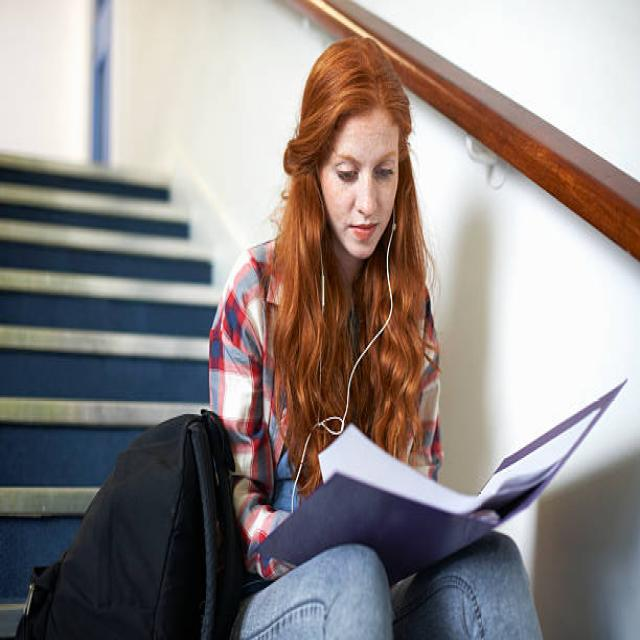Earphone: (309, 169, 395, 440)
